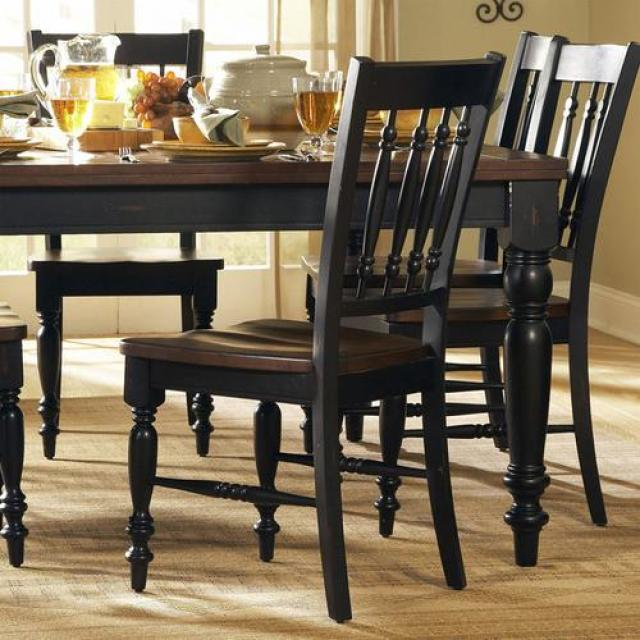chair: (120, 55, 504, 626)
